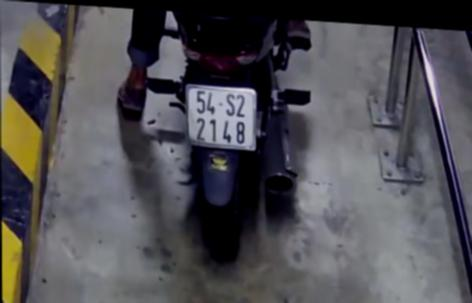License_Plate: (177, 79, 263, 157)
